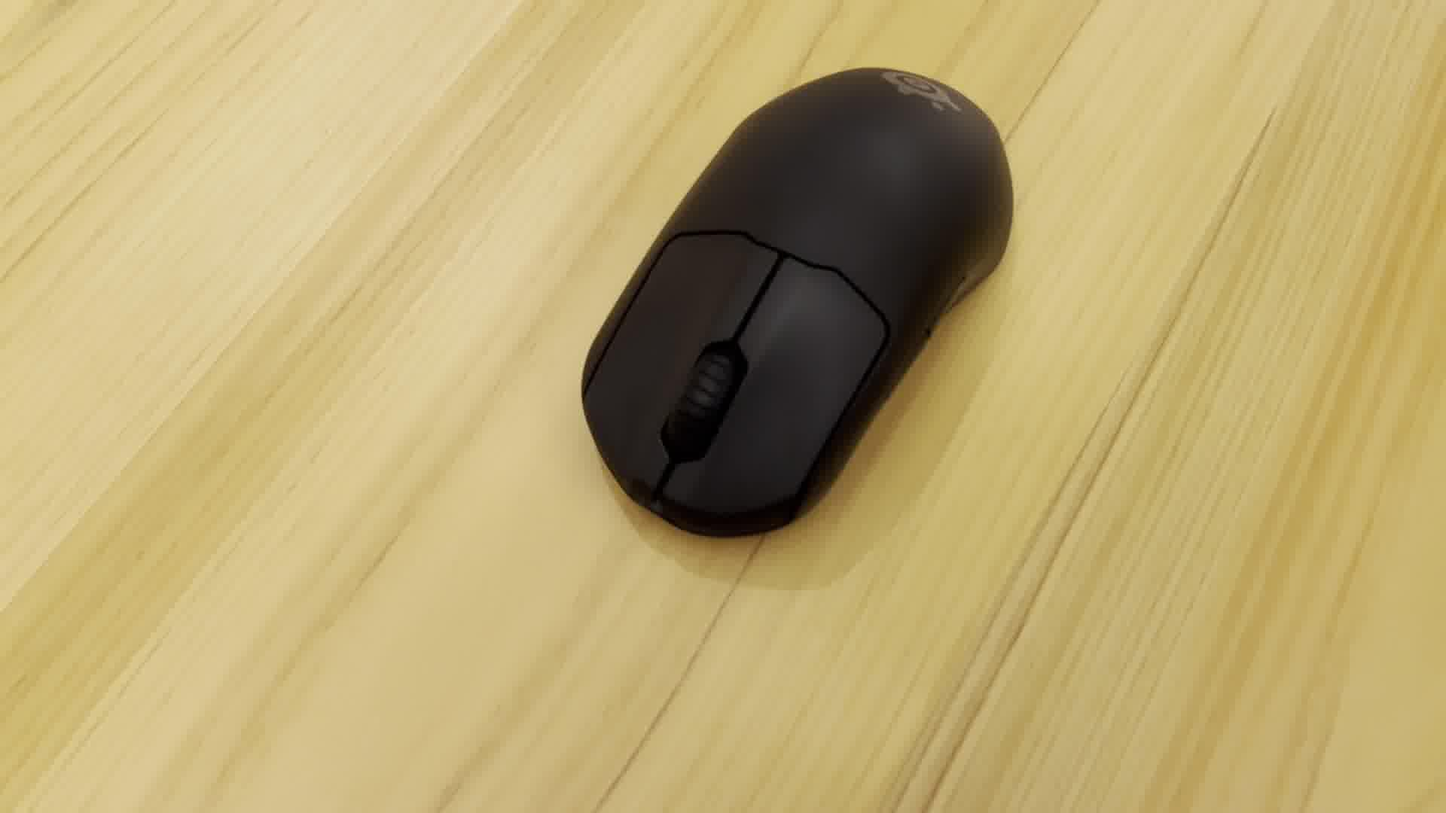mouse: (574, 51, 1021, 550)
